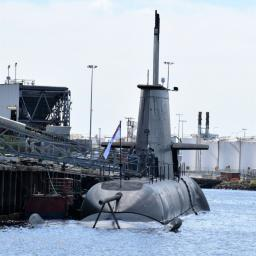submarine: (29, 15, 214, 229)
